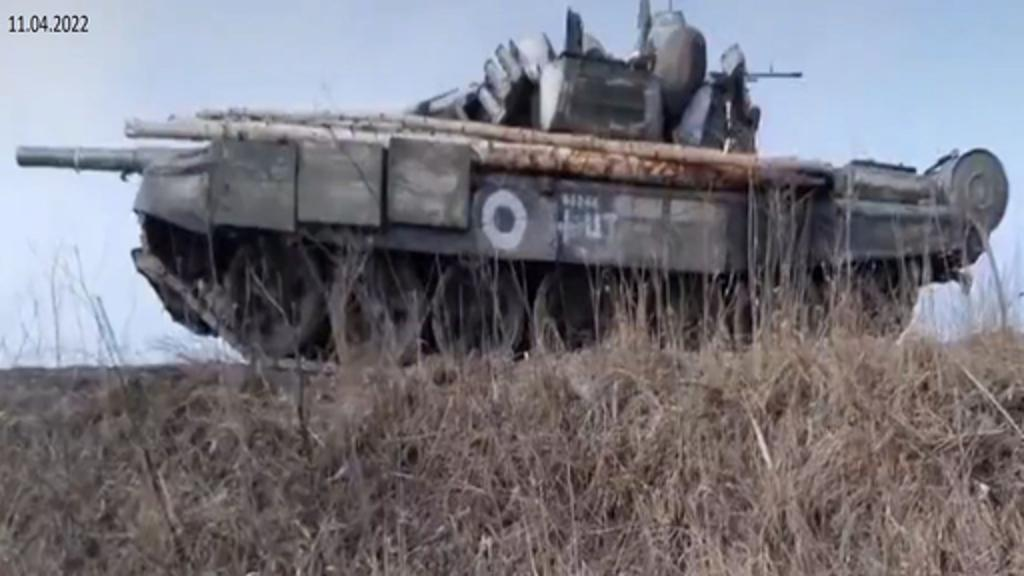TANK: (4, 10, 1004, 370)
